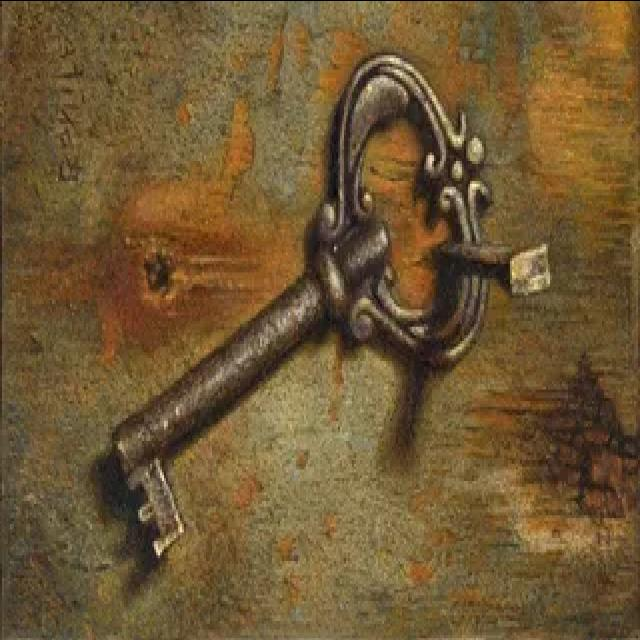key: (87, 34, 566, 580)
